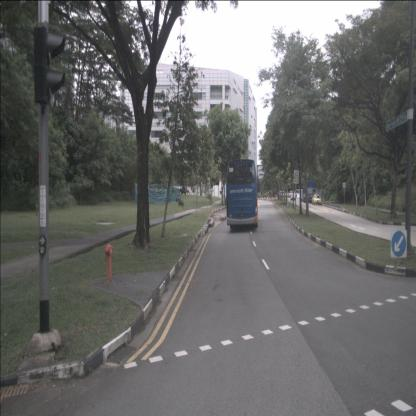vehicle-bicycle: (260, 190, 264, 200), (268, 190, 272, 198)
vehicle-bus-rigid: (226, 160, 258, 230), (296, 188, 306, 202)
vehicle-car: (312, 194, 322, 206), (290, 194, 296, 201)
vehicle-truck: (302, 180, 316, 204)
